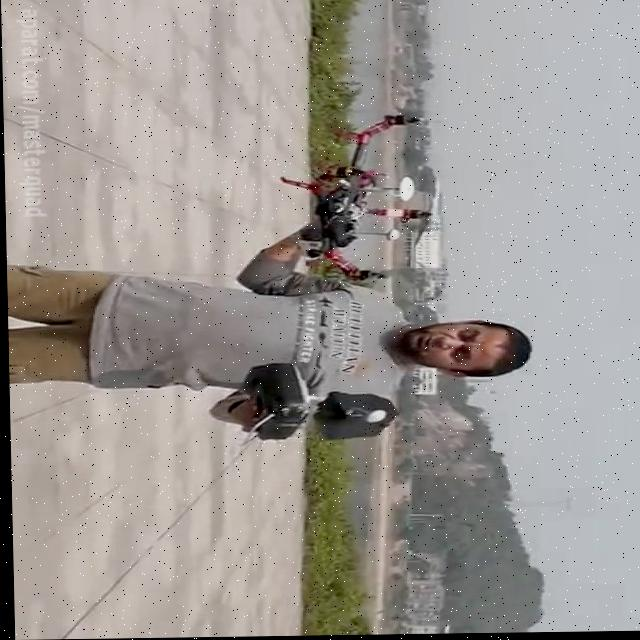drone: (277, 109, 436, 289)
